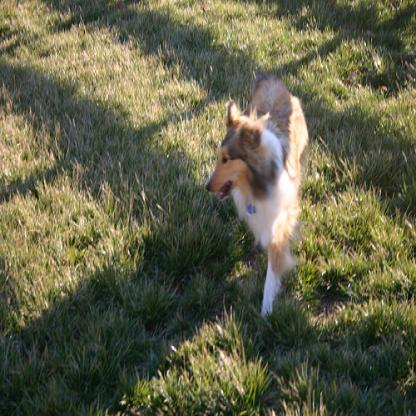Shetland_sheepdog: (202, 71, 312, 320)
